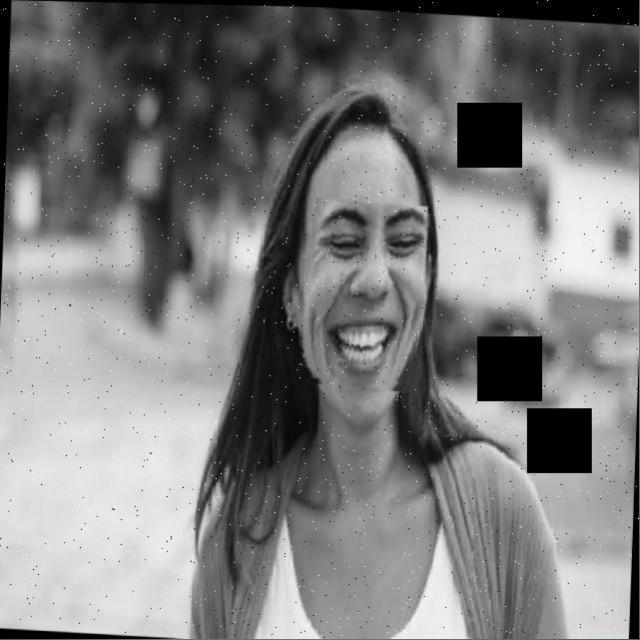Happy: (305, 168, 444, 428)
